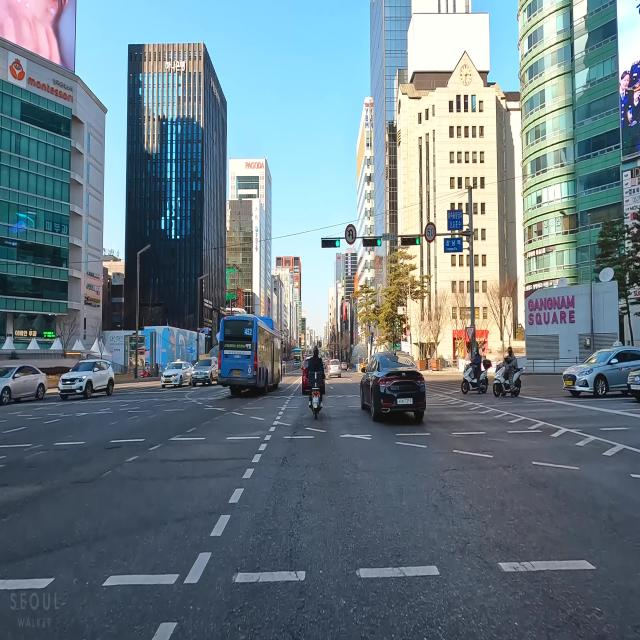Green Light: (335, 238, 340, 248), (377, 237, 381, 247), (416, 237, 420, 246)
